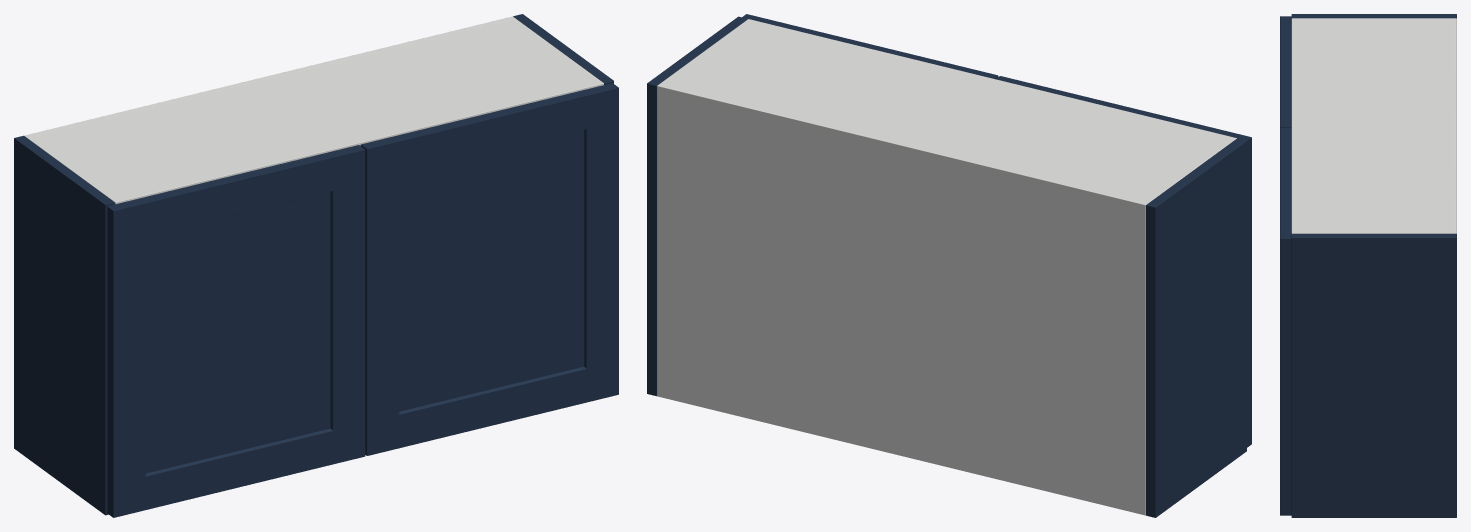
File: oppein-pb-bss-w3621.glb
3 views of the same model, side by side, from view 1: azimuth 30°, elevation 25°; view 2: azimuth 150°, elevation 25°; view 3: azimuth 270°, elevation 25° (orthographic). The views are drawn at different scales.
Visible parts, largest first — view 1: Door, Door.001, Cabinet top, Cabinet side, Cabinet back, Cabinet side.001; view 2: Cabinet back, Cabinet top, Cabinet side, Cabinet side.001, Door, Door.001, Cabinet bottom; view 3: Cabinet side.001, Cabinet top, Door.001, Cabinet back, Door, Cabinet side.
Part boxes in pixels (bbox=[...]): Door: bbox=[107, 145, 365, 517]; Door.001: bbox=[360, 83, 618, 455]; Cabinet top: bbox=[26, 17, 603, 204]; Cabinet side: bbox=[14, 135, 115, 515]; Cabinet back: bbox=[24, 16, 515, 137]; Cabinet side.001: bbox=[513, 14, 613, 84]; Cabinet back: bbox=[657, 83, 1148, 515]; Cabinet top: bbox=[657, 19, 1236, 214]; Cabinet side: bbox=[1146, 138, 1246, 517]; Cabinet side.001: bbox=[647, 16, 747, 396]; Door: bbox=[996, 76, 1251, 447]; Door.001: bbox=[742, 14, 998, 79]; Cabinet bottom: bbox=[658, 390, 1144, 514]; Cabinet side.001: bbox=[1291, 233, 1456, 517]; Cabinet top: bbox=[1291, 18, 1456, 233]; Door.001: bbox=[1280, 128, 1291, 515]; Cabinet back: bbox=[1450, 18, 1456, 233]; Door: bbox=[1280, 16, 1291, 127]; Cabinet side: bbox=[1291, 14, 1456, 18].
Size of the model in its own units: 0.9144 by 0.5334 by 0.3048.
